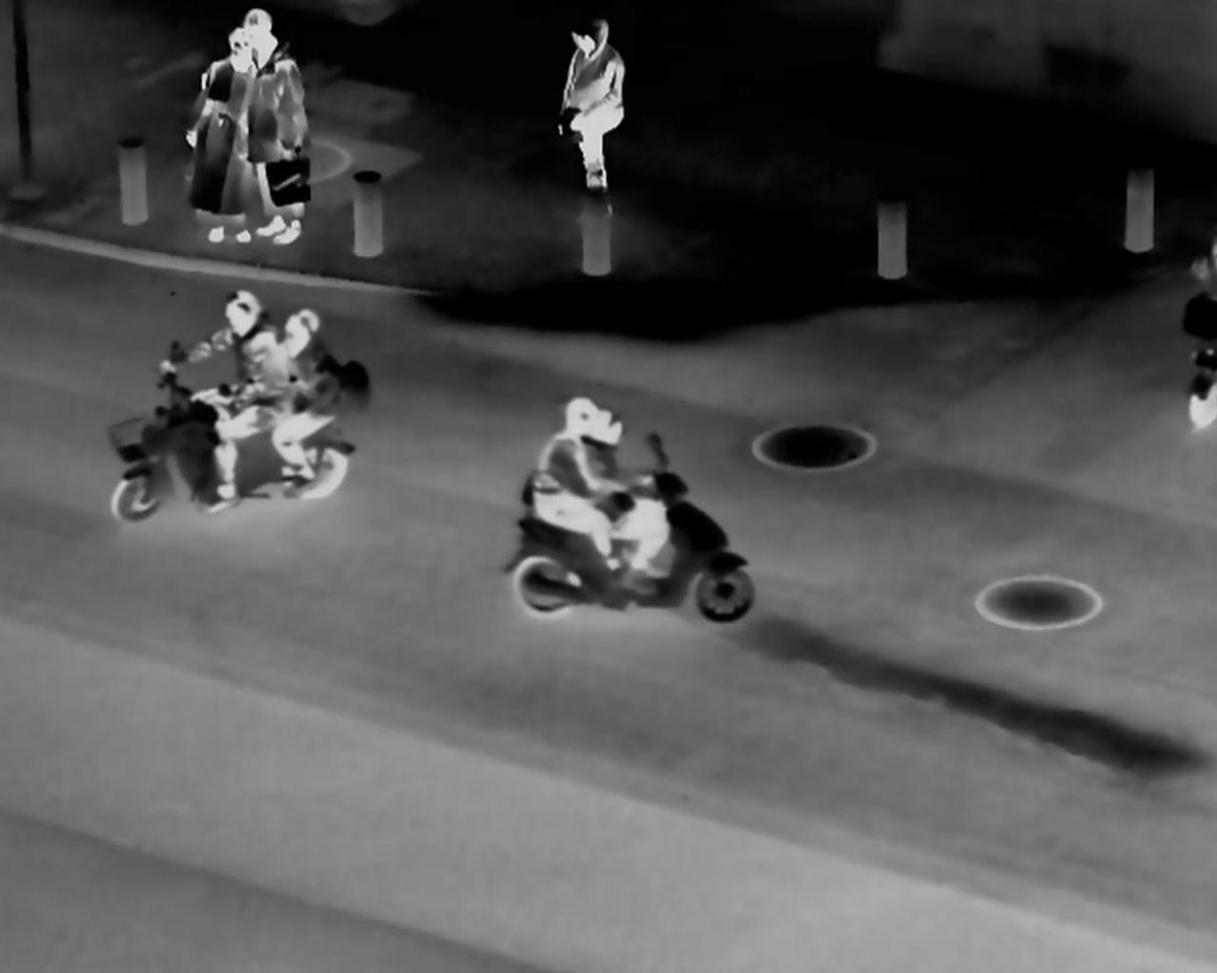person: (175, 293, 276, 495), (239, 9, 316, 249), (524, 384, 607, 584), (272, 300, 352, 494), (559, 24, 638, 209), (193, 28, 257, 238), (592, 408, 668, 584)
